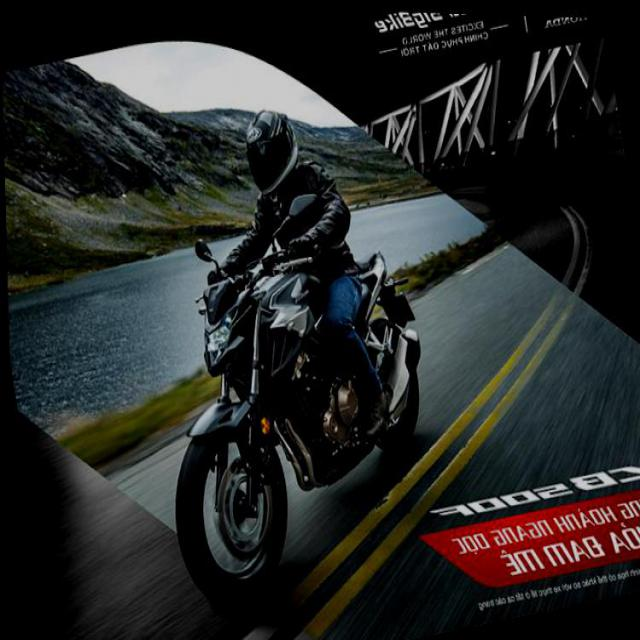CB500F: (130, 190, 448, 612)
